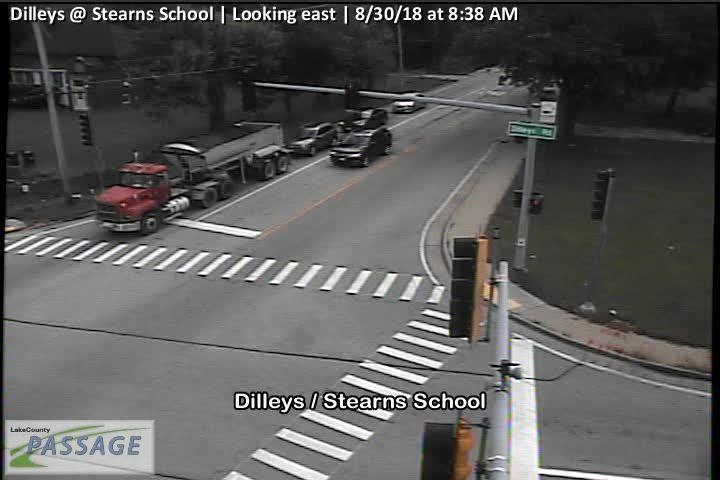SUV: (331, 129, 393, 166), (288, 120, 338, 156)
Sedan: (93, 121, 291, 235), (348, 106, 388, 129), (391, 93, 426, 113)
